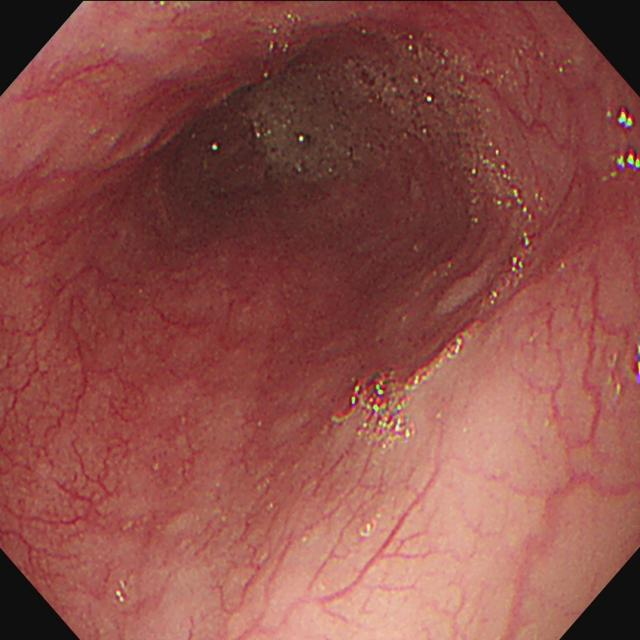T: (258, 46, 530, 215), (333, 319, 485, 453)
U: (615, 149, 640, 171), (619, 106, 635, 131)
